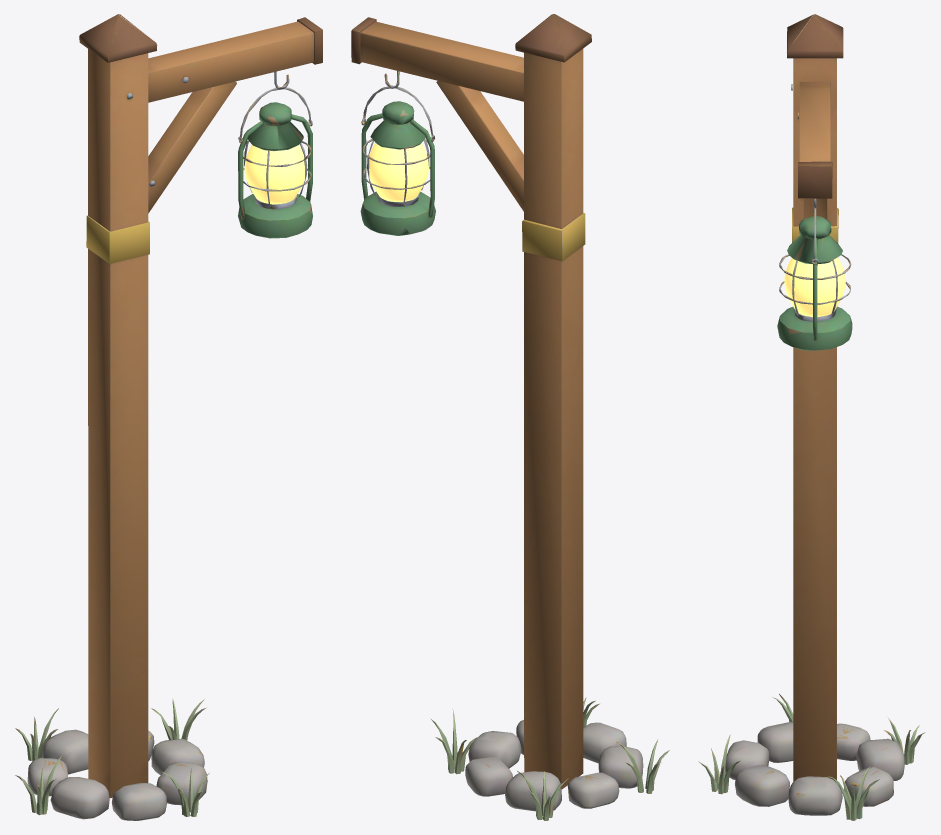
Rendered from lantern-post.glb.
The picture shows the model from 3 angles, left to right: view 1: azimuth 30°, elevation 25°; view 2: azimuth 150°, elevation 25°; view 3: azimuth 270°, elevation 25°; orthographic projection.
Visible parts, largest first — view 1: lantern-post_body, lantern-post_glow; view 2: lantern-post_body, lantern-post_glow; view 3: lantern-post_body, lantern-post_glow.
Part boxes in pixels (bbox=[...]): lantern-post_body: bbox=[15, 14, 322, 820]; lantern-post_glow: bbox=[244, 145, 304, 204]; lantern-post_body: bbox=[351, 14, 669, 820]; lantern-post_glow: bbox=[369, 143, 428, 201]; lantern-post_body: bbox=[698, 14, 925, 820]; lantern-post_glow: bbox=[784, 257, 845, 317].
Bounding box in the file's own units: 0.771 × 1.88 × 0.5068.
Materials: 2 (1 with a texture image).
